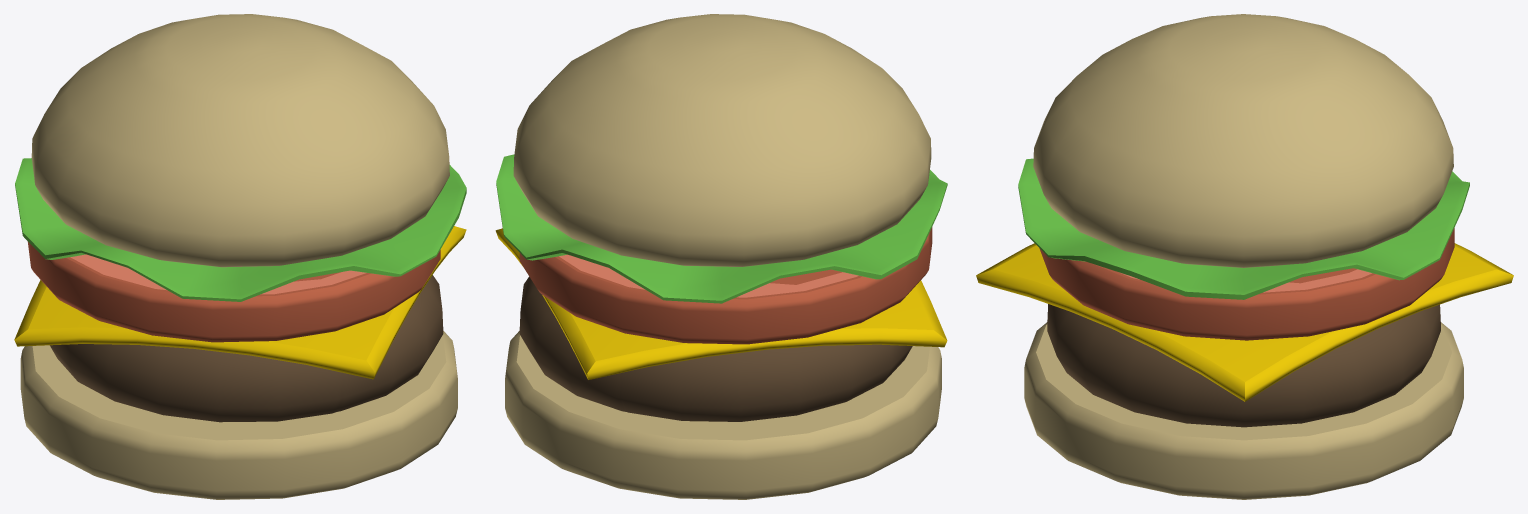
Rendered from cheeseburger.fbx.
The picture shows the model from 3 angles, left to right: view 1: azimuth 30°, elevation 25°; view 2: azimuth 150°, elevation 25°; view 3: azimuth 270°, elevation 25°; orthographic projection.
Visible parts, largest first — view 1: topBun1, bottomBun1, tomatoSkin, hamburger2, lettuce, cheesewithbend2, hamburger1, tomatoFlesh; view 2: topBun1, bottomBun1, tomatoSkin, hamburger2, lettuce, cheesewithbend2, hamburger1, tomatoFlesh, darkInsideTomato; view 3: topBun1, bottomBun1, hamburger1, tomatoSkin, cheesewithbend2, lettuce, tomatoFlesh.
Boxes of the visible parts, box(x1,y1,x2,y2) form: topBun1: box(31, 14, 449, 267); bottomBun1: box(20, 331, 457, 499); tomatoSkin: box(27, 241, 440, 342); hamburger2: box(50, 344, 341, 422); lettuce: box(15, 158, 466, 301); cheesewithbend2: box(14, 226, 466, 379); hamburger1: box(337, 275, 443, 411); tomatoFlesh: box(70, 254, 366, 294); topBun1: box(513, 14, 931, 266); bottomBun1: box(505, 331, 941, 499); tomatoSkin: box(519, 227, 932, 344); hamburger2: box(620, 344, 912, 421); lettuce: box(496, 154, 947, 303); cheesewithbend2: box(495, 228, 947, 379); hamburger1: box(519, 276, 625, 411); tomatoFlesh: box(559, 254, 858, 297); darkInsideTomato: box(770, 269, 842, 284); topBun1: box(1033, 14, 1453, 267); bottomBun1: box(1024, 322, 1463, 499); hamburger1: box(1047, 304, 1440, 427); tomatoSkin: box(1039, 228, 1454, 340); cheesewithbend2: box(976, 243, 1513, 401); lettuce: box(1018, 158, 1469, 299); tomatoFlesh: box(1119, 269, 1371, 292).
Bounding box in the file's own units: 4.84 × 3.77 × 4.98.
